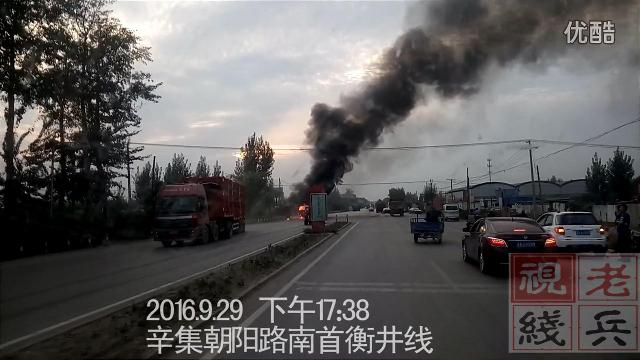fire: (298, 204, 304, 209), (297, 216, 303, 220)
